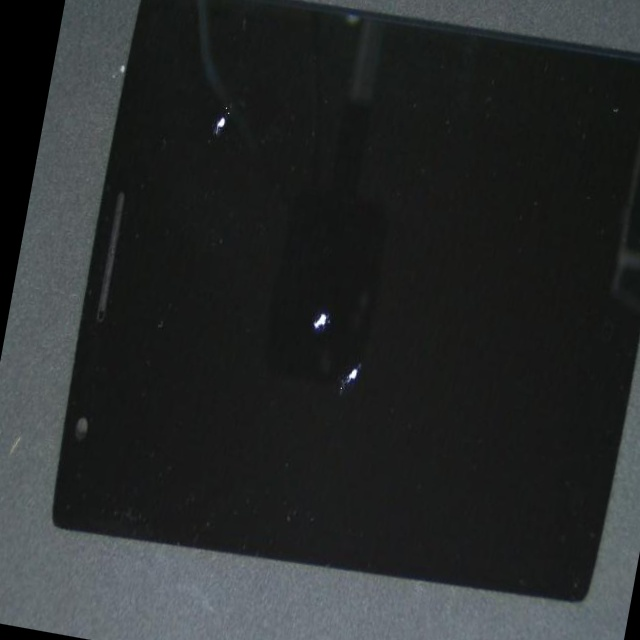stain: (141, 69, 553, 610), (114, 77, 487, 558), (99, 19, 303, 294)
